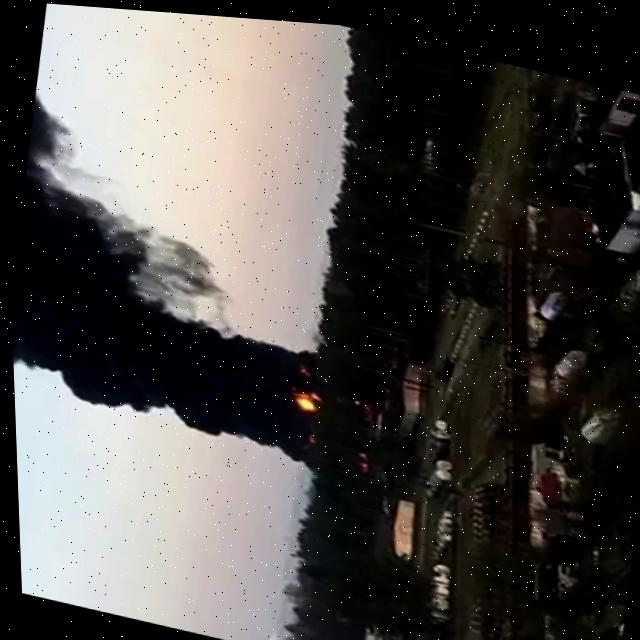Smoke: (5, 182, 339, 460)
